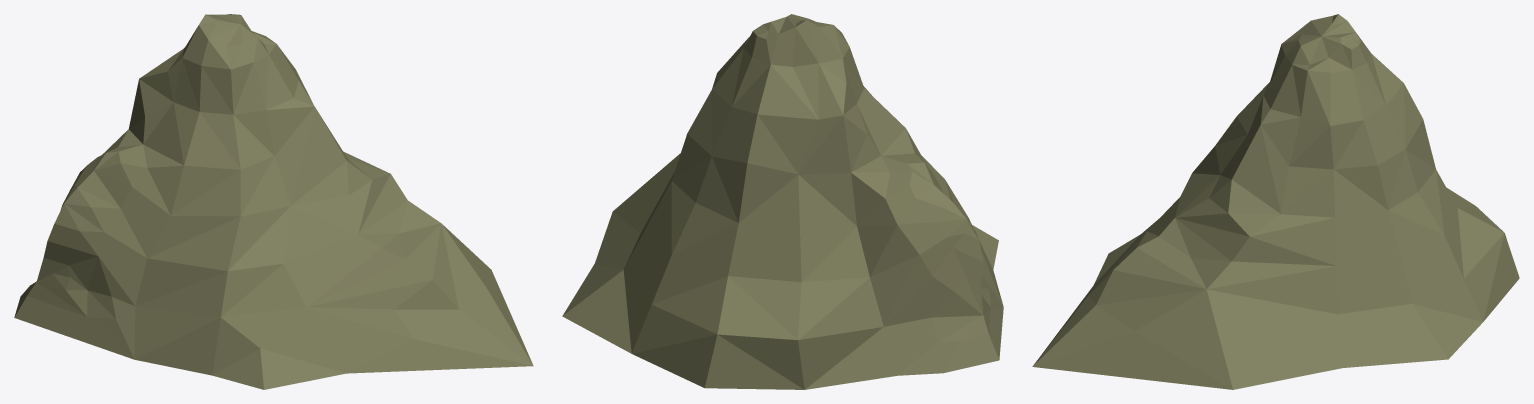
The model's file is rock08.fbx.
3 views of the same model, side by side, from view 1: azimuth 30°, elevation 25°; view 2: azimuth 150°, elevation 25°; view 3: azimuth 270°, elevation 25° (orthographic). The views are drawn at different scales.
Parts seen in each view (by area): view 1: rock08; view 2: rock08; view 3: rock08.
Part boxes in pixels (box(x1,y1,x2,y2)): rock08: box(14, 14, 533, 389); rock08: box(562, 14, 1003, 389); rock08: box(1032, 14, 1519, 389).
Size of the model in its own units: 1.42 by 0.9098 by 1.48.
